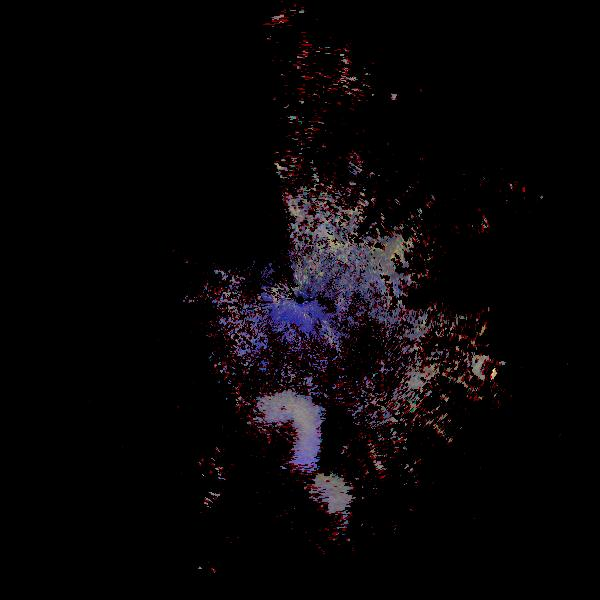roost: (239, 386, 329, 476)
